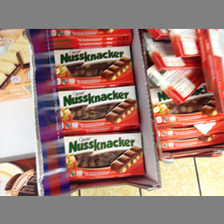chocolate: (57, 86, 140, 134), (61, 134, 147, 179), (54, 45, 135, 91)
